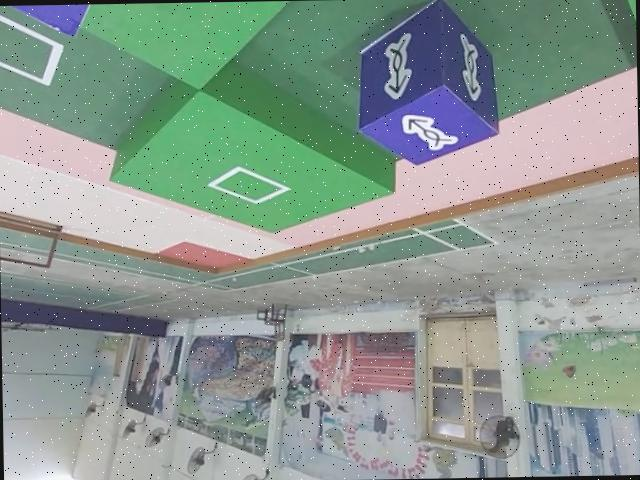R2 Real Blue: (355, 0, 500, 166)
